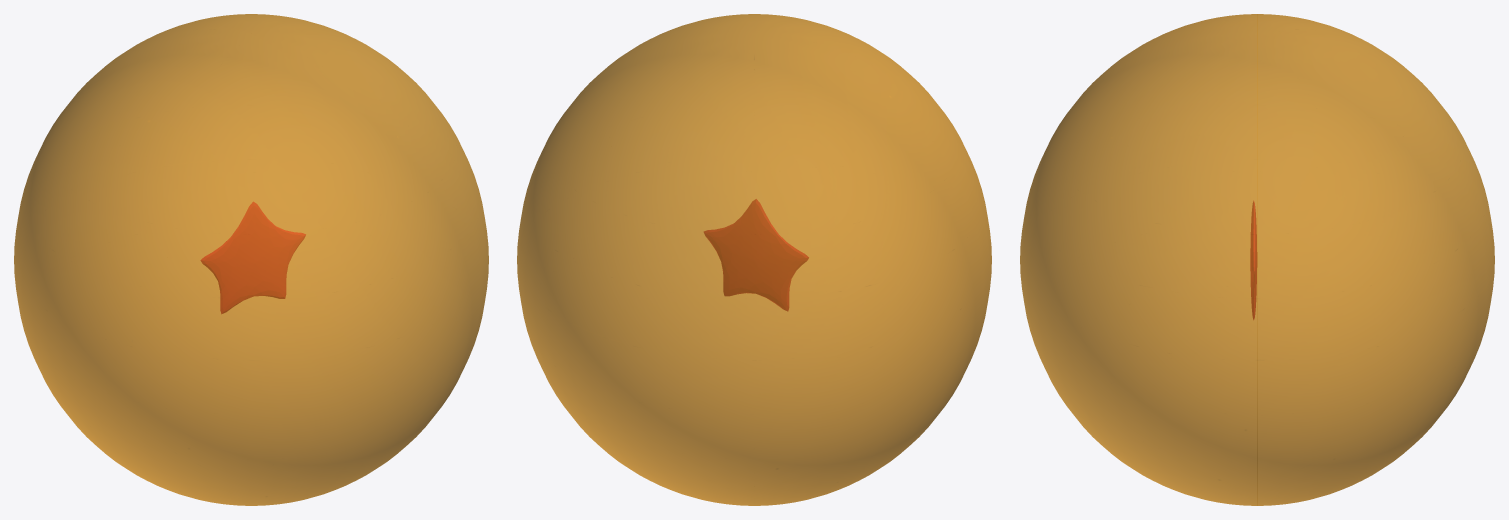
Rendered from dragon_sphere.glb.
3 views of the same model, side by side, from view 1: azimuth 30°, elevation 25°; view 2: azimuth 150°, elevation 25°; view 3: azimuth 270°, elevation 25° (orthographic).
Parts seen in each view (by area): view 1: Sphere; view 2: Sphere; view 3: Sphere.
Part boxes in pixels (x1=…): Sphere: x1=14, y1=14, x2=488, y2=505; Sphere: x1=517, y1=14, x2=991, y2=505; Sphere: x1=1020, y1=14, x2=1494, y2=505.
Size of the model in its own units: 5.75 by 6.03 by 5.75.
2 materials, 2 textured.
